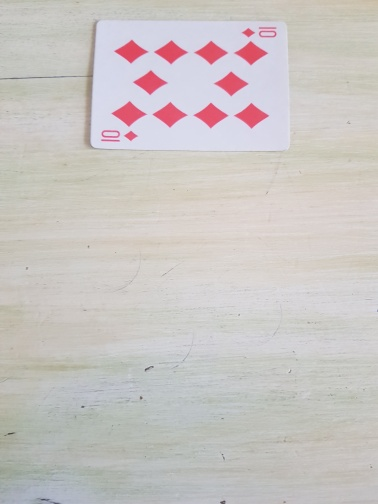ten: (88, 19, 292, 152)
